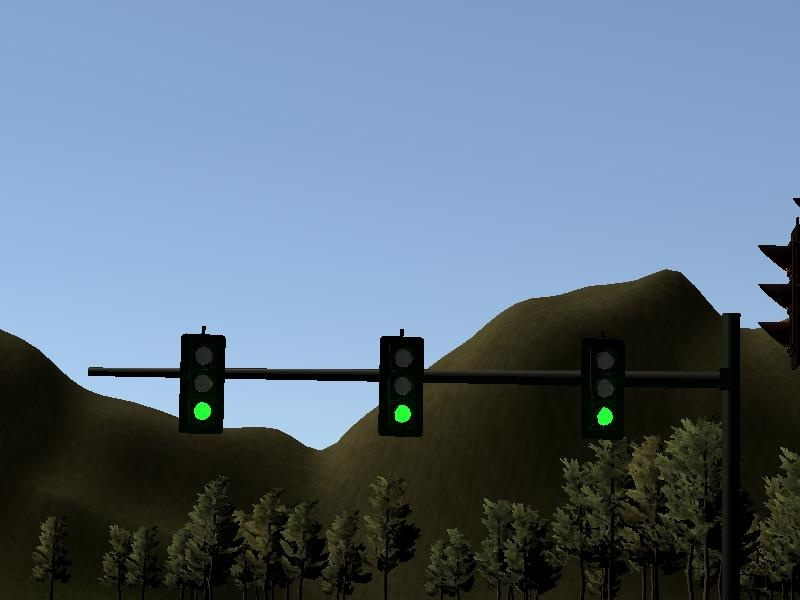GREEN: (177, 333, 226, 432), (377, 334, 426, 433), (579, 338, 628, 437)
